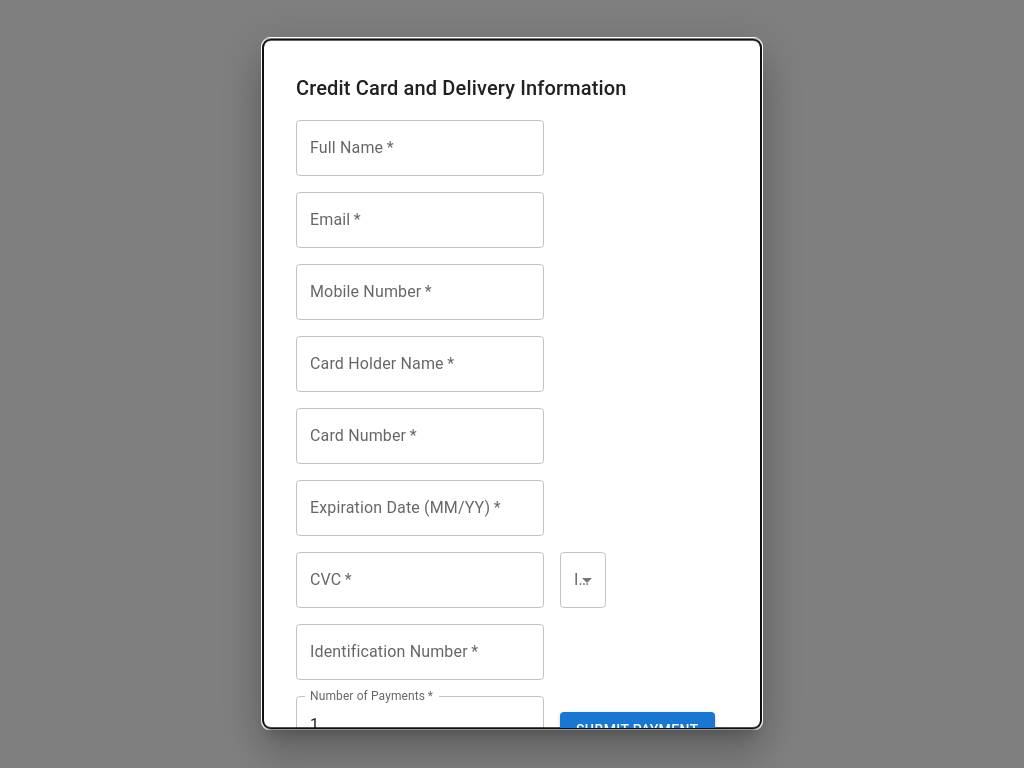
it: PaymentModal › Validation › sanitizes CVC input
Type "123a4" into the field labelled "CVC *".
click(420, 580); type("123a4")  # box [296, 552, 544, 608]
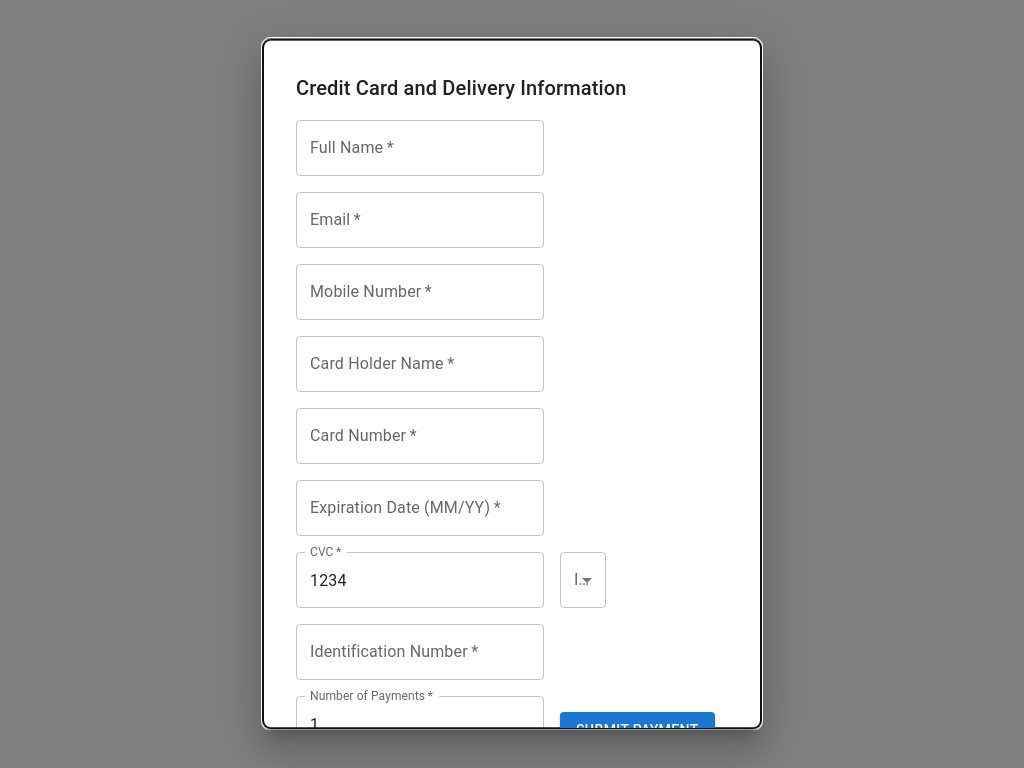
Result: the field labelled "CVC *" holds "1234" at [296, 552, 544, 608]
